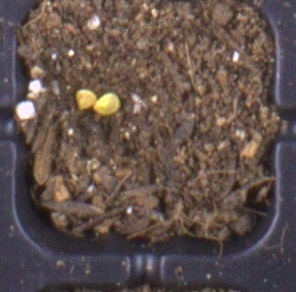chilli seed: (94, 93, 121, 116), (74, 89, 97, 111)
